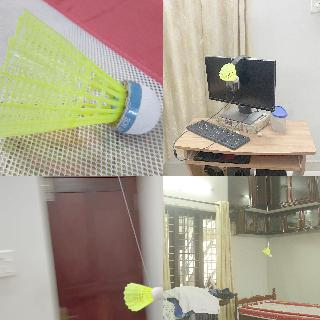shuttlecock: (0, 8, 161, 141), (122, 281, 162, 311), (220, 62, 238, 82), (262, 247, 270, 257)
